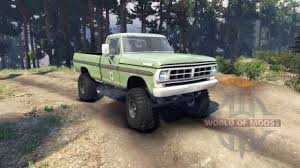Vehicle: (70, 28, 219, 137)
